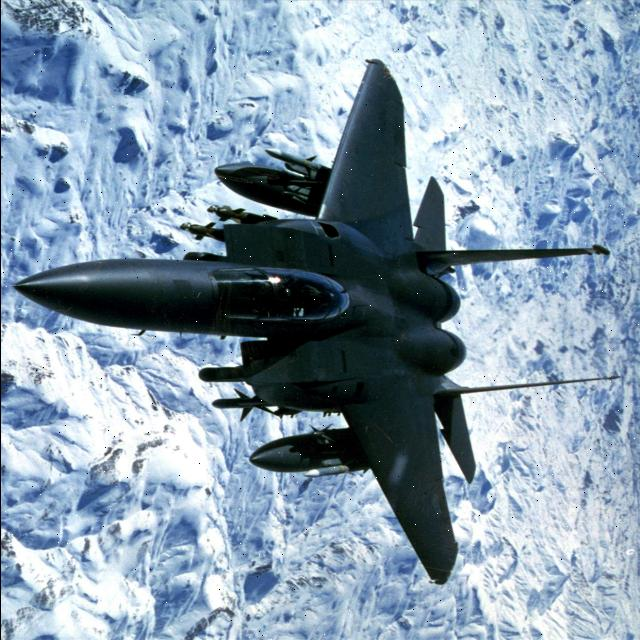F15: (7, 0, 640, 601)
